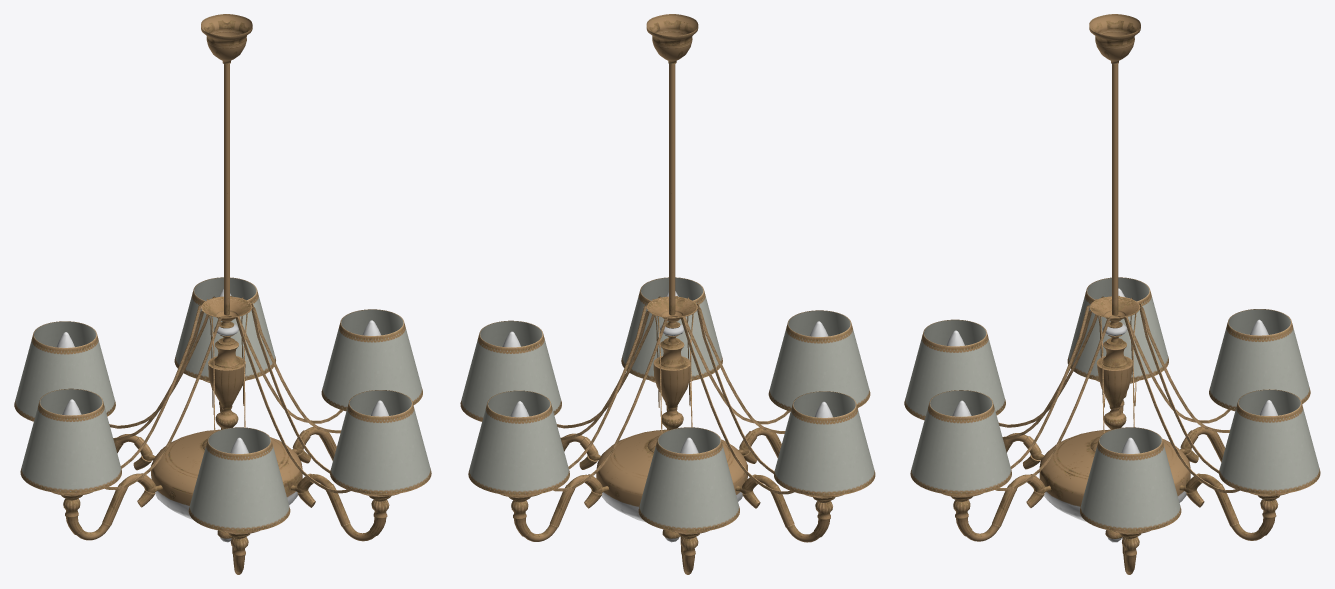
File: chandelier_02_4k-v2.glb
3 renders of one model, left to right at view 1: azimuth 30°, elevation 25°; view 2: azimuth 150°, elevation 25°; view 3: azimuth 270°, elevation 25°, orthographic.
Visible parts, largest first — view 1: Chandelier_02; view 2: Chandelier_02; view 3: Chandelier_02.
Part boxes in pixels (x1,y1,x2,y2): Chandelier_02: [14, 14, 431, 574]; Chandelier_02: [460, 14, 875, 574]; Chandelier_02: [904, 14, 1320, 574].
Bounding box in the file's own units: 0.679 × 0.8481 × 0.6191.
Materials: 2 (1 with a texture image).
